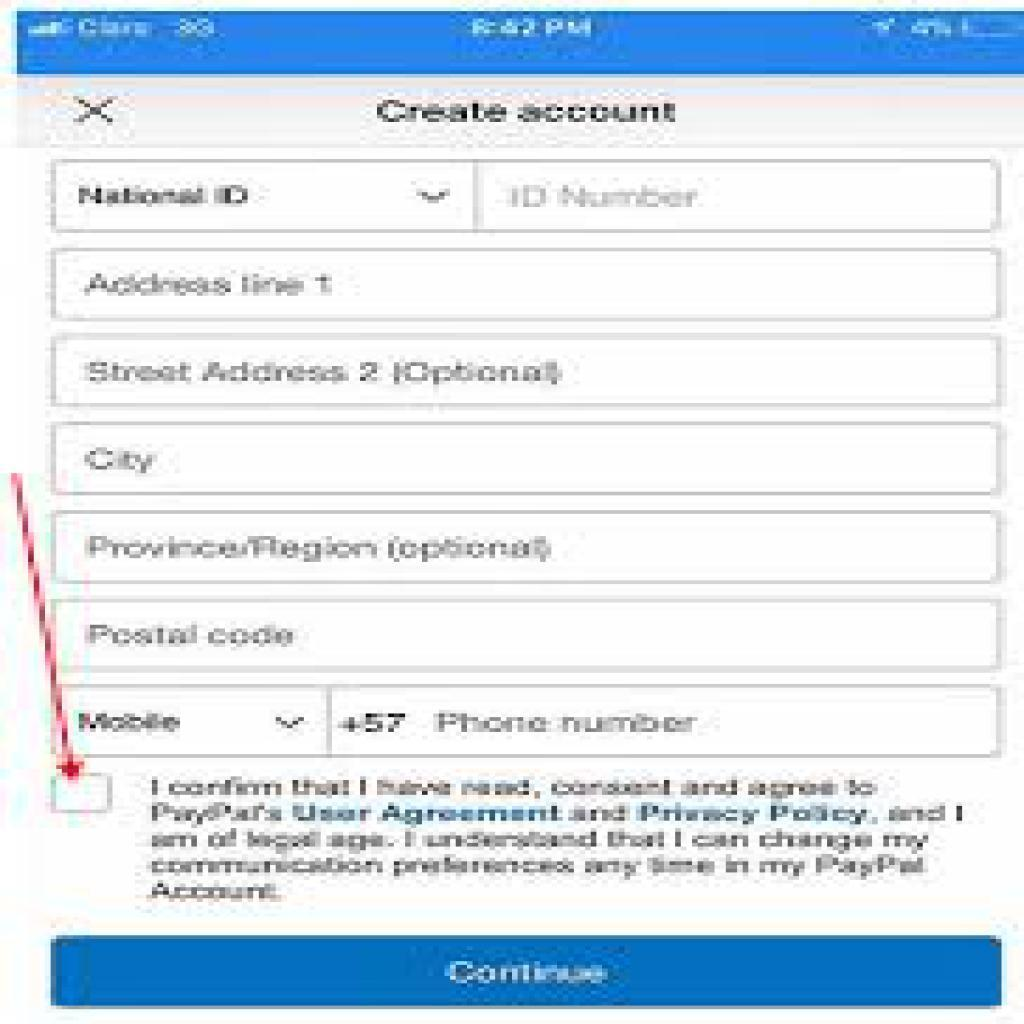button: (51, 938, 1000, 1008)
checkbox: (57, 771, 112, 811)
dropdown: (54, 162, 476, 232), (61, 687, 331, 756)
icon: (70, 91, 123, 130)
input: (54, 422, 1001, 496), (54, 250, 1001, 323), (57, 601, 1002, 673), (55, 337, 1000, 408), (54, 512, 1001, 581), (331, 685, 999, 758), (475, 161, 1000, 233)
